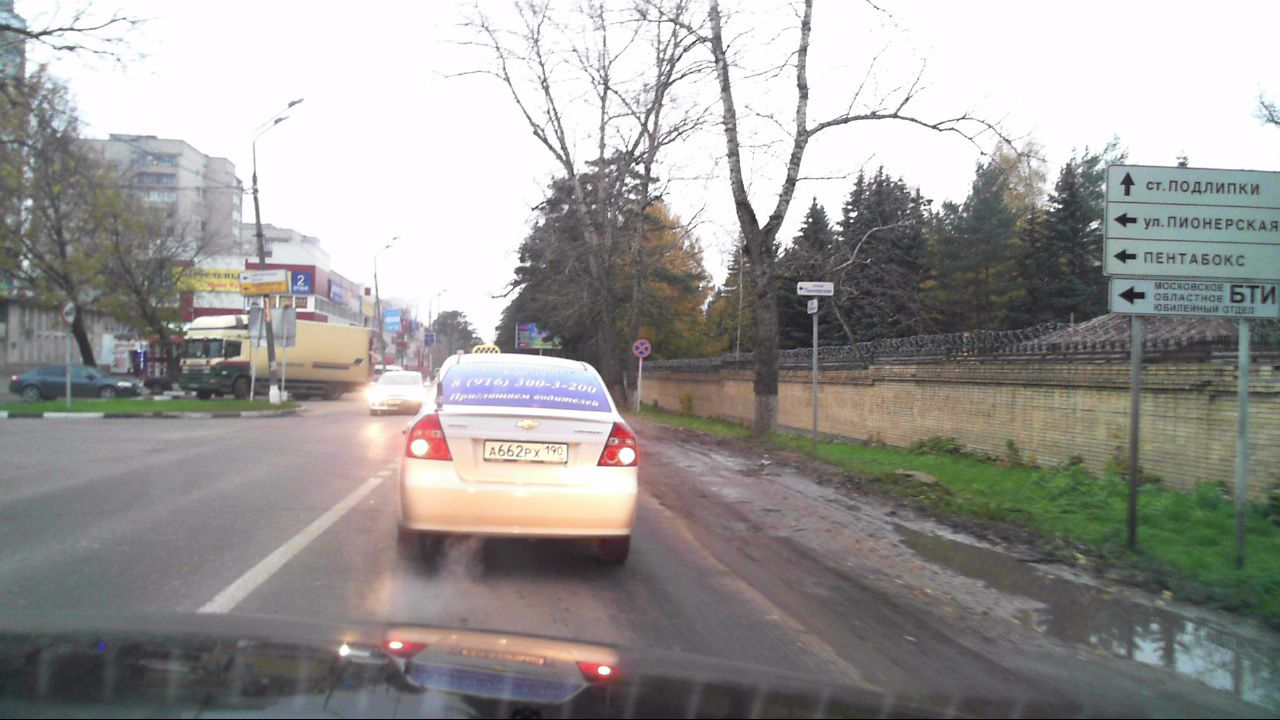No Parking: (632, 338, 650, 356)
